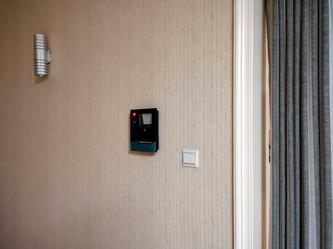switch: (181, 152, 197, 167)
